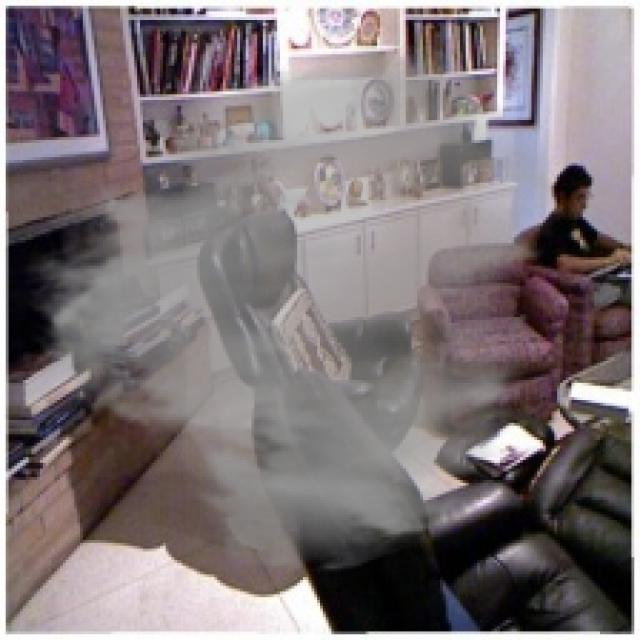smoke: (11, 40, 563, 577)
